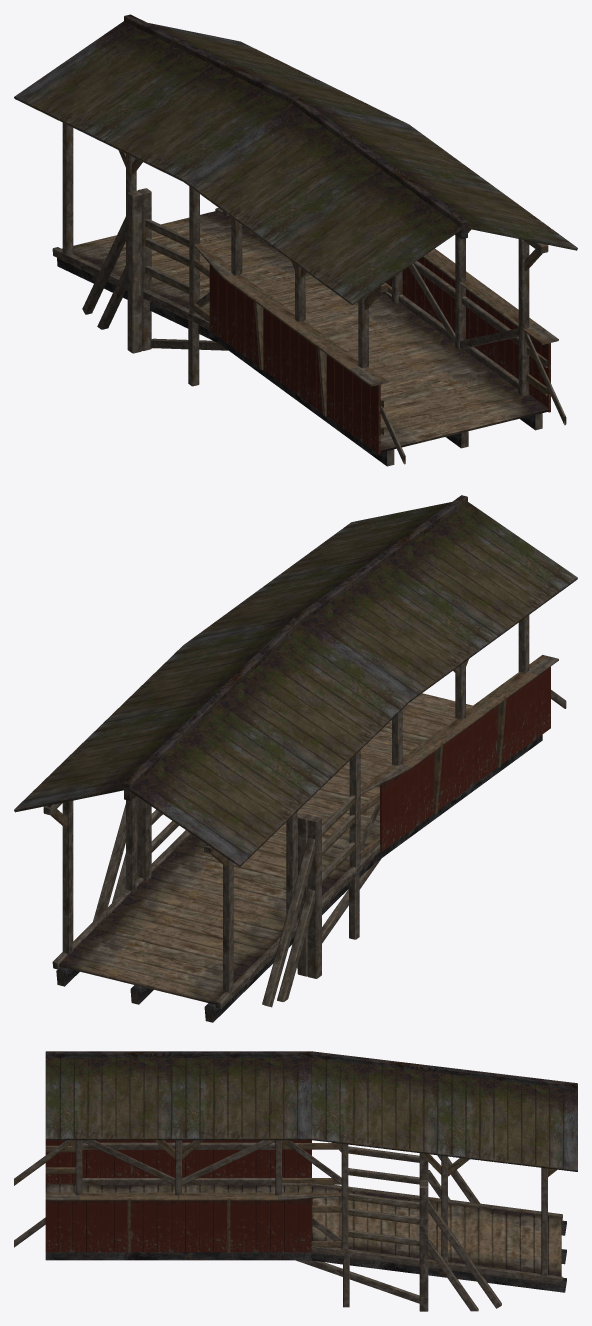
Rendered from Bridge_04.fbx.
3 renders of one model, top to bottom at view 1: azimuth 30°, elevation 25°; view 2: azimuth 150°, elevation 25°; view 3: azimuth 270°, elevation 25°, orthographic. The views are drawn at different scales.
Visible parts, largest first — view 1: Bridge_Roof_End_B:Bridge_Roof_End_B_0; view 2: Bridge_Roof_End_B:Bridge_Roof_End_B_0; view 3: Bridge_Roof_End_B:Bridge_Roof_End_B_0.
Part boxes in pixels (bbox=[...]): Bridge_Roof_End_B:Bridge_Roof_End_B_0: bbox=[14, 14, 577, 466]; Bridge_Roof_End_B:Bridge_Roof_End_B_0: bbox=[14, 495, 577, 1022]; Bridge_Roof_End_B:Bridge_Roof_End_B_0: bbox=[14, 1051, 577, 1311].
Bounding box in the file's own units: 31.01 × 36.96 × 84.72.
Materials: 1 (1 with a texture image).
